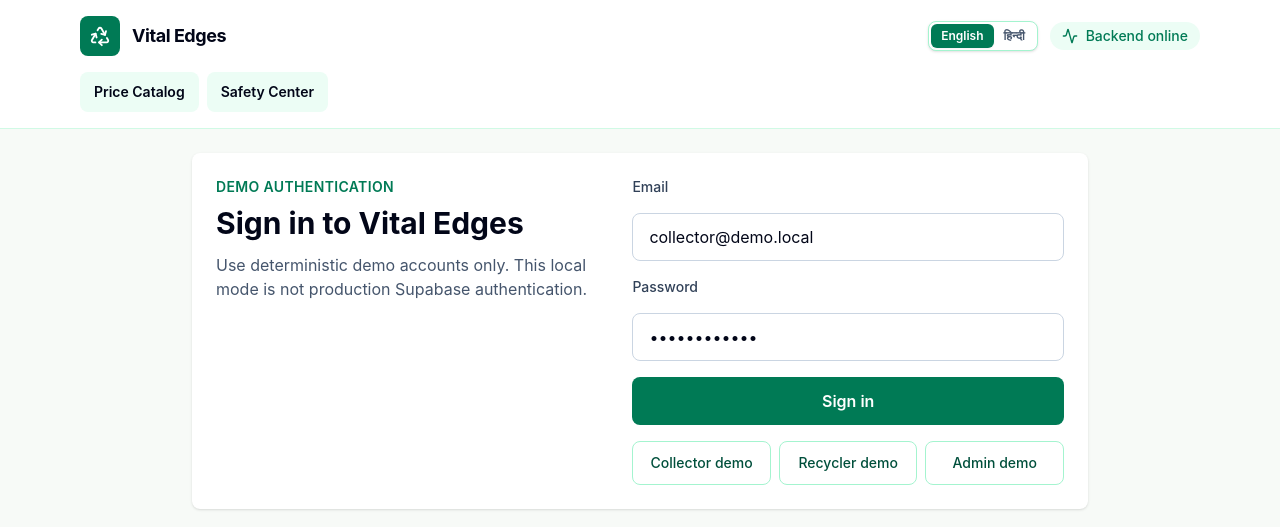
Test: Phase 1 app shell › admin role reaches admin dashboard
Click the button "Admin demo" at (995, 463), box [926,441,1064,485]
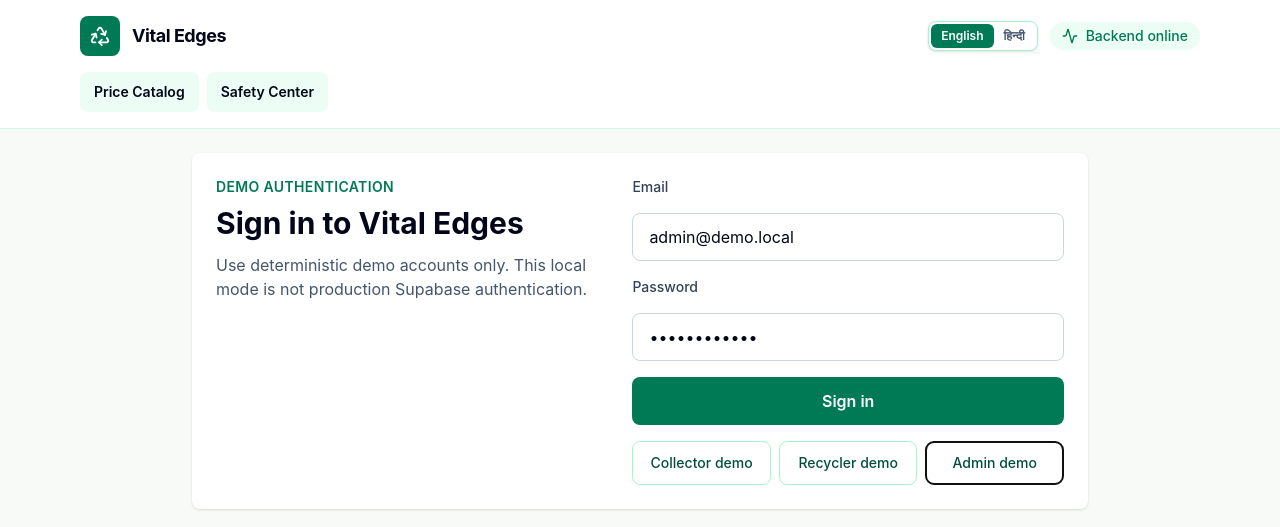
Click the button "Sign in" at (848, 401), box [632,377,1064,425]
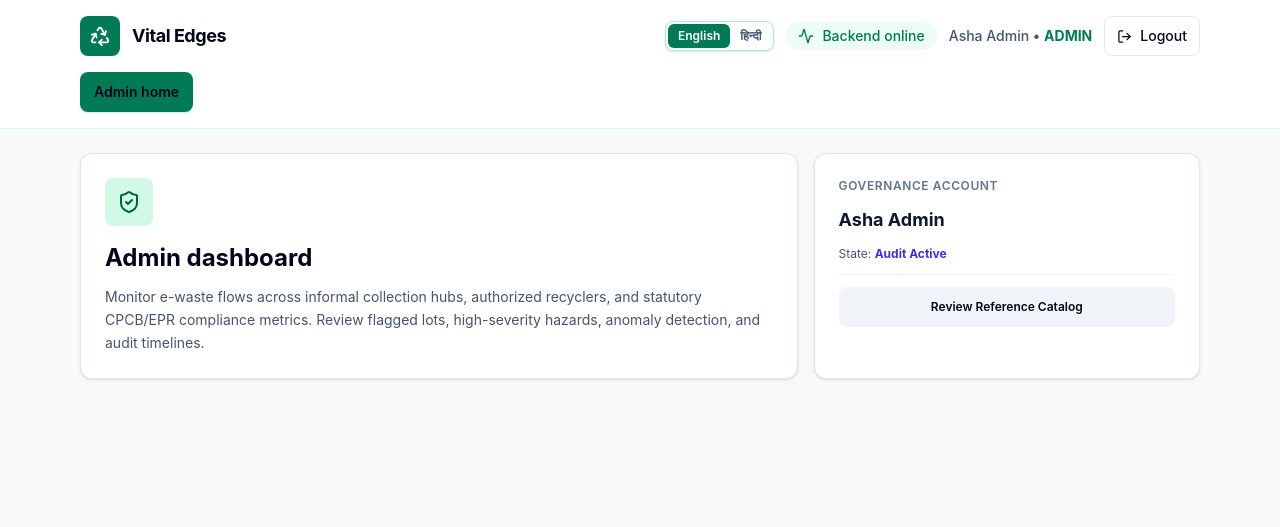
Check: the heading "Admin dashboard" is shown, box [105,243,312,272]
